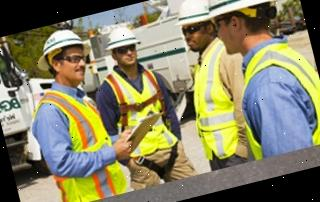helmet: (100, 64, 180, 160), (29, 23, 93, 73), (193, 0, 288, 22), (167, 0, 213, 29), (100, 22, 142, 53)
wear: (27, 81, 126, 202), (230, 40, 320, 159), (178, 42, 253, 160)
